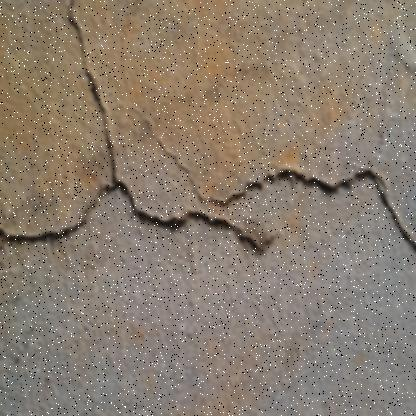Cracks: (132, 107, 416, 276), (0, 172, 274, 260), (58, 0, 123, 190)
